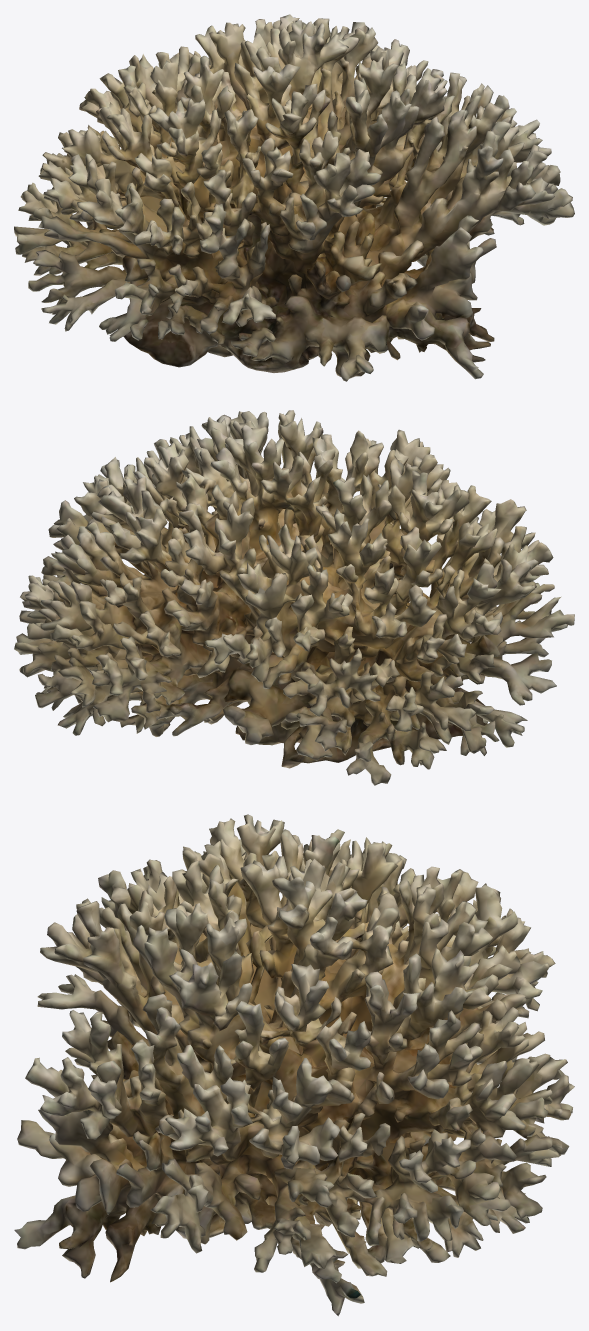
Rendered from smithsonian-pocillopora.glb.
3 renders of one model, top to bottom at view 1: azimuth 30°, elevation 25°; view 2: azimuth 150°, elevation 25°; view 3: azimuth 270°, elevation 25°, orthographic. The views are drawn at different scales.
Bounding box in the file's own units: 0.2388 × 0.1427 × 0.2002.
1 material, 1 textured.
